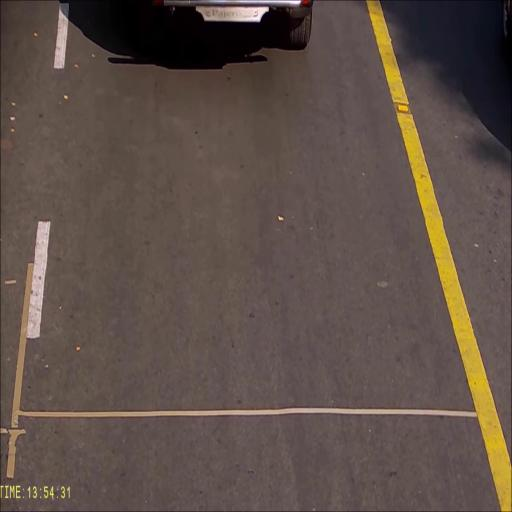Vehicle: (154, 0, 313, 51), (502, 0, 512, 42)
